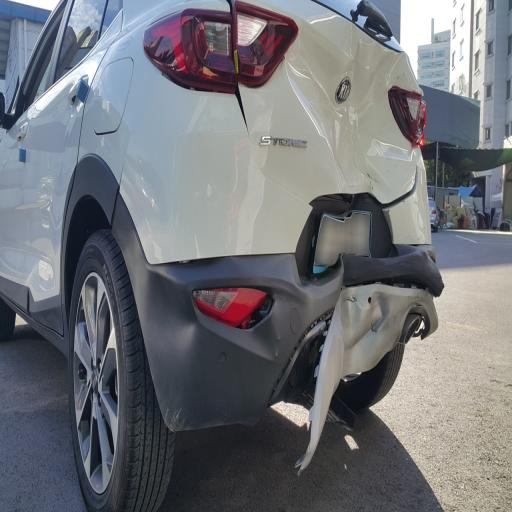broken: (265, 214, 439, 448)
dent: (266, 8, 439, 200)
